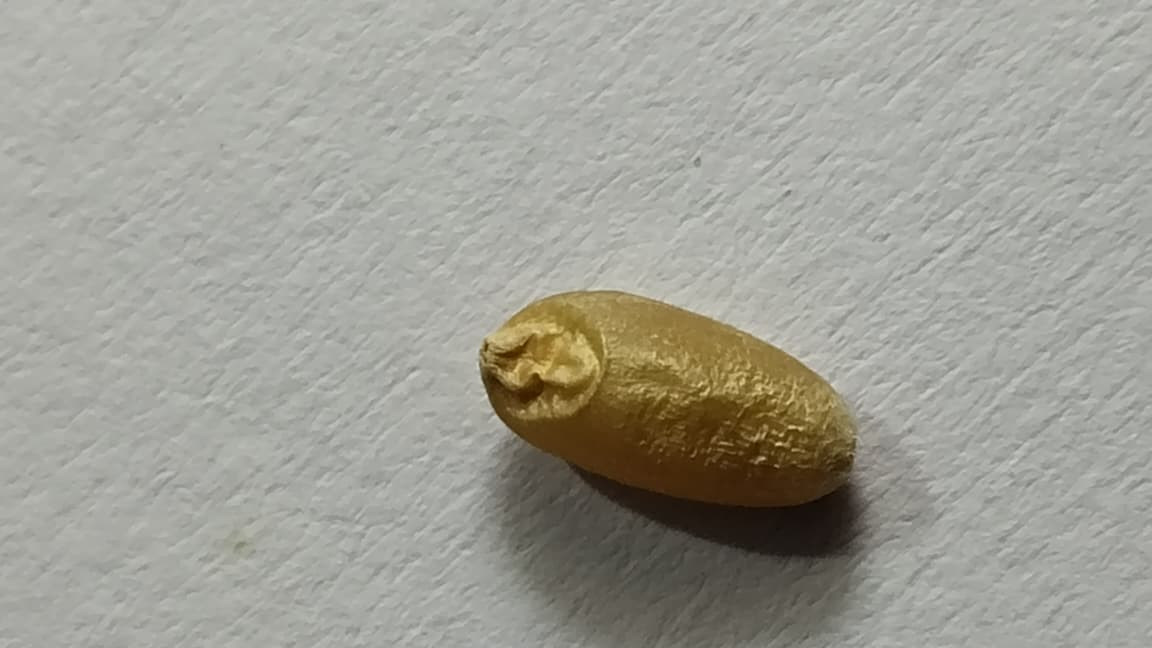healthy: (479, 289, 854, 506)
